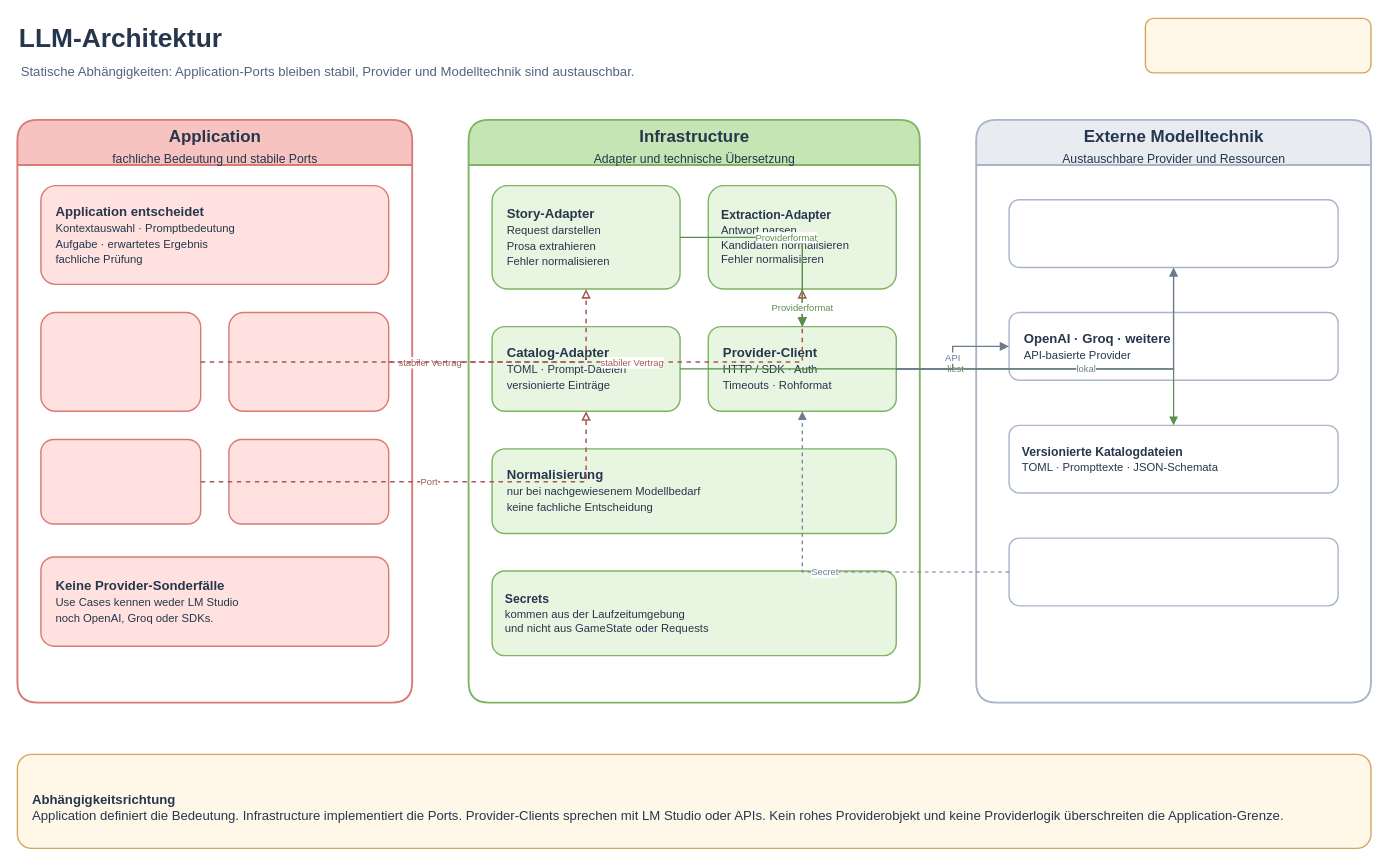
This 1387x865 diagram has some shape labels left out. Each missing label, with the centre of its shape:
"Architektur umgesetzt weitere Workflows folgen" goes at [1257,45].
"Catalog-Ports ModelCatalog PromptCatalog" goes at [120,481].
"Domain-Grenze LLM liefert Vorschläge Domain gibt Änderungen frei" goes at [308,481].
"Extraction-Port ExtractionRequest → Candidates oder LLMError" goes at [308,361].
"LM Studio lokaler Provider" goes at [1173,233].
"Runtime Secret Source API-Schlüssel und Zugangsdaten" goes at [1173,571].
"Story-Port StoryRequest → StoryData oder LLMError" goes at [120,361].
